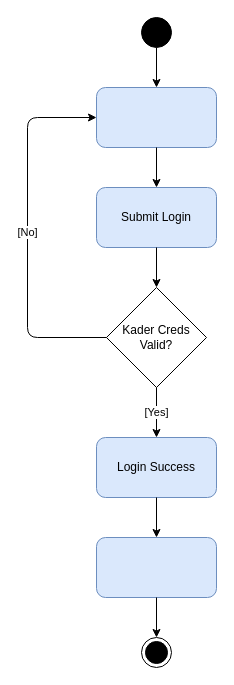
Image size: 234x685. Some labels were removed from this diagram. Here are the shapes that lost their labels. From the top down, the centre of each, then its label:
At [156,117]: "Input Kader Credentials".
At [156,567]: "Redirect to Kader Dashboard".
